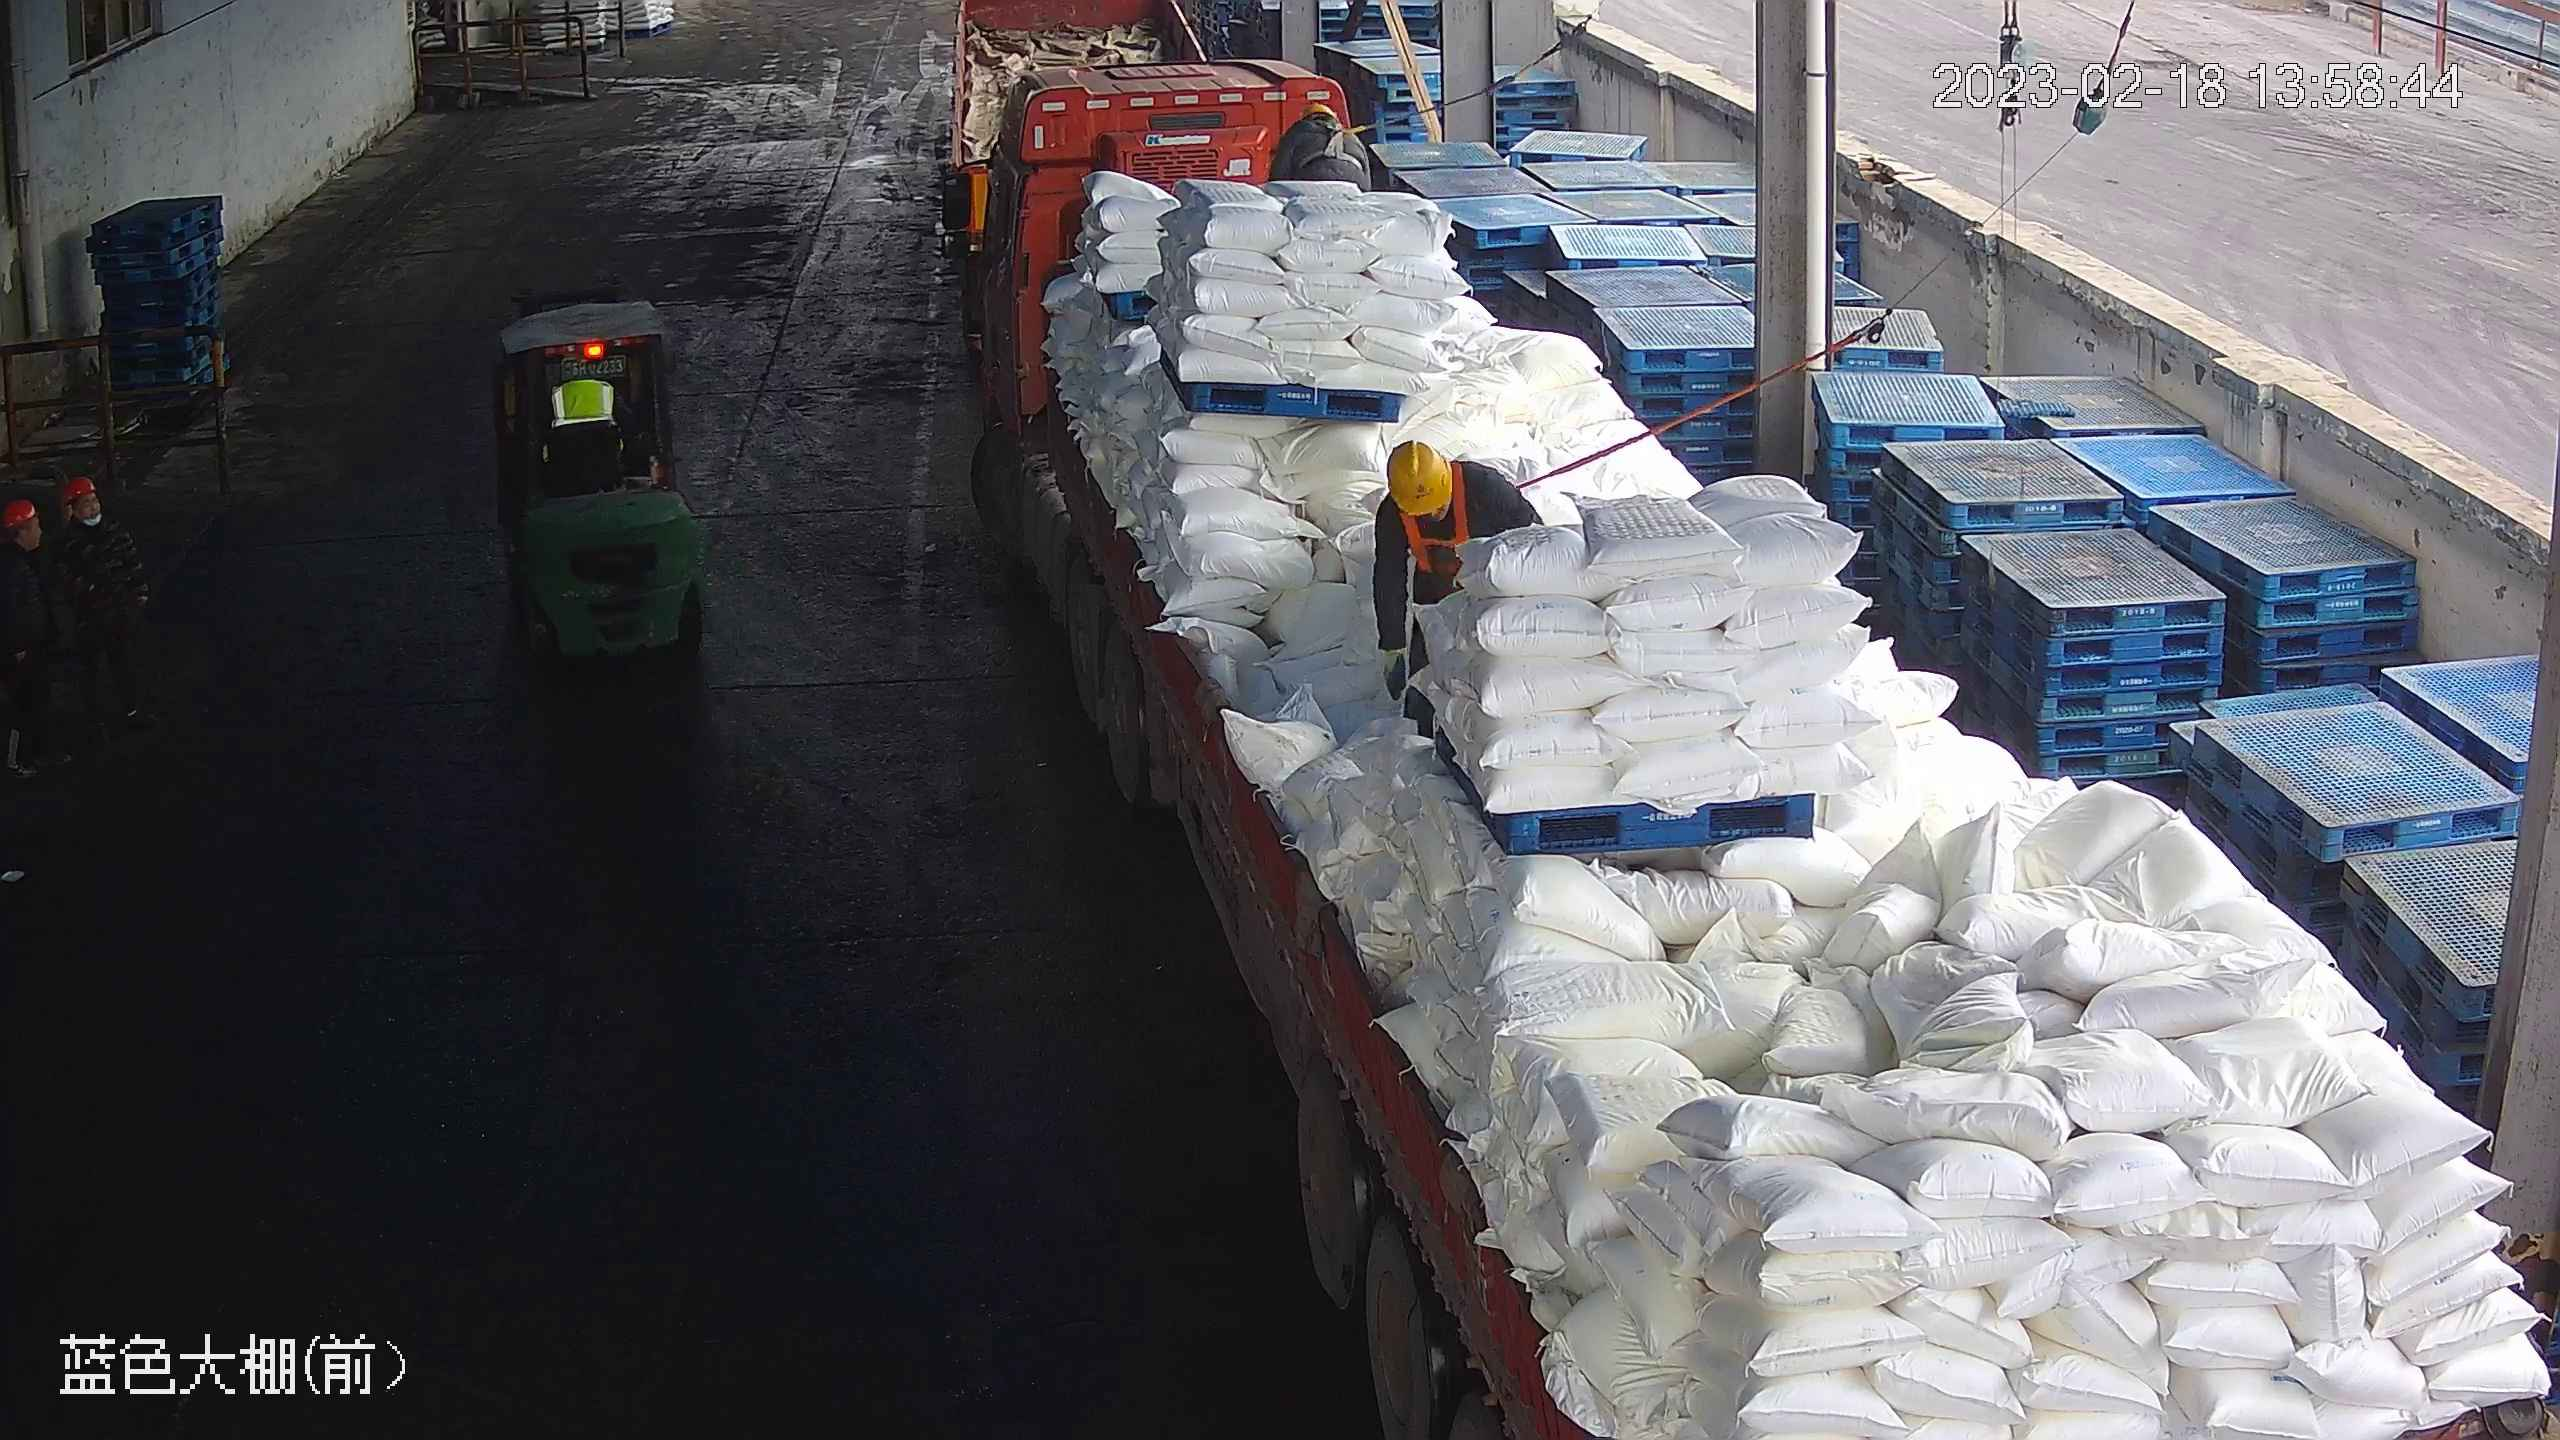belt: (1403, 492, 1479, 575), (1299, 115, 1365, 163)
head: (1373, 434, 1514, 535), (56, 476, 133, 571), (1, 497, 57, 600), (1286, 103, 1360, 144)
helmet: (1384, 437, 1451, 513), (1, 498, 41, 533), (60, 476, 99, 506), (1303, 104, 1336, 117)
people: (56, 468, 152, 743), (1, 498, 59, 794)
truck: (937, 60, 2554, 1440)
